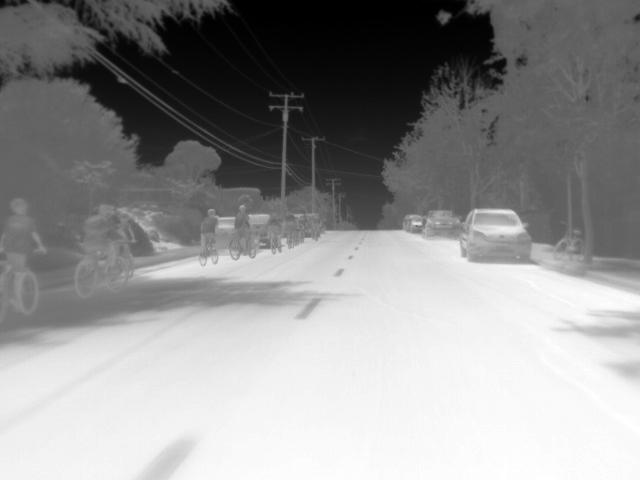car: (458, 206, 532, 264), (424, 209, 461, 239), (248, 212, 271, 245), (215, 215, 237, 249), (409, 214, 427, 232)
person: (1, 197, 46, 297), (82, 206, 125, 276), (233, 204, 254, 252), (200, 208, 220, 255), (269, 208, 285, 244), (284, 210, 299, 243)
